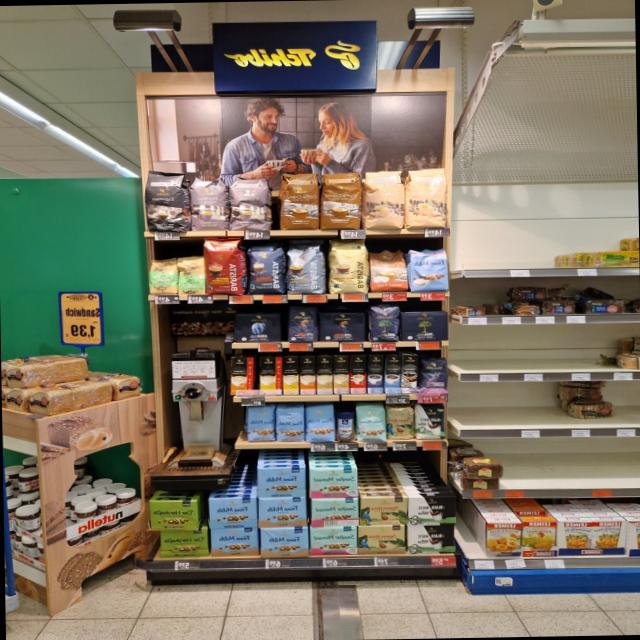AB Gemahlen: (232, 312, 282, 343)
Athiopien Bohne: (148, 256, 178, 295)
Athiopien Gemahlen: (177, 254, 204, 295)
BM Bohne: (366, 304, 401, 342)
BM Gemahlen: (398, 310, 448, 341)
BW Bohne: (413, 403, 447, 440)
BW Gemahlen: (406, 494, 459, 526), (406, 524, 458, 554)
Barista CB: (326, 238, 370, 294)
Barista CC: (284, 239, 328, 294)
Barista Espresso: (245, 243, 286, 295)
Barista Kolumbien: (202, 238, 246, 295)
C Fino Bohne: (416, 356, 450, 394)
CC Mild: (402, 166, 451, 231), (360, 168, 406, 230)
CC Vollmundig: (368, 249, 408, 293)
CC Vollmundig 36 Pads: (276, 172, 321, 232), (318, 172, 364, 230)
Colombia BB Bohne: (386, 404, 416, 439)
Colombia BB Gemahlen: (358, 496, 409, 526), (357, 524, 407, 554)
Espresso Kraftig: (144, 168, 190, 233)
Espresso M Art: (227, 176, 273, 232), (189, 176, 229, 232)
FM 36 Pads: (406, 246, 450, 292)
FM Bohne: (304, 402, 336, 443), (274, 403, 306, 444), (246, 404, 276, 443)
FM Gemahlen: (255, 464, 307, 498), (255, 496, 309, 528), (208, 495, 258, 529), (209, 526, 262, 558), (258, 526, 310, 558)
FM Instant: (334, 408, 356, 442)
Herzhatfe Mundig: (158, 525, 212, 560), (146, 498, 198, 530)
LG Bohne: (286, 305, 320, 343)
LG Gemahlen: (318, 311, 367, 342)
SM Bohne: (356, 402, 388, 442)
SM Gemahlen: (306, 466, 361, 498), (307, 526, 358, 556), (309, 498, 360, 528)
Simo CCMild: (258, 355, 283, 396)
Simo CCMild bigpack: (282, 355, 299, 396)
Simo CCVollmundig: (229, 356, 255, 396)
Simo CCVollmundig bigpack: (298, 355, 316, 395)
Simo Es Elegant: (349, 354, 367, 394)
Simo Kaffee BW: (399, 352, 418, 394)
Simo Kaffee Kraft: (366, 354, 385, 395)
Simo Kaffee Mild: (383, 354, 401, 394)
